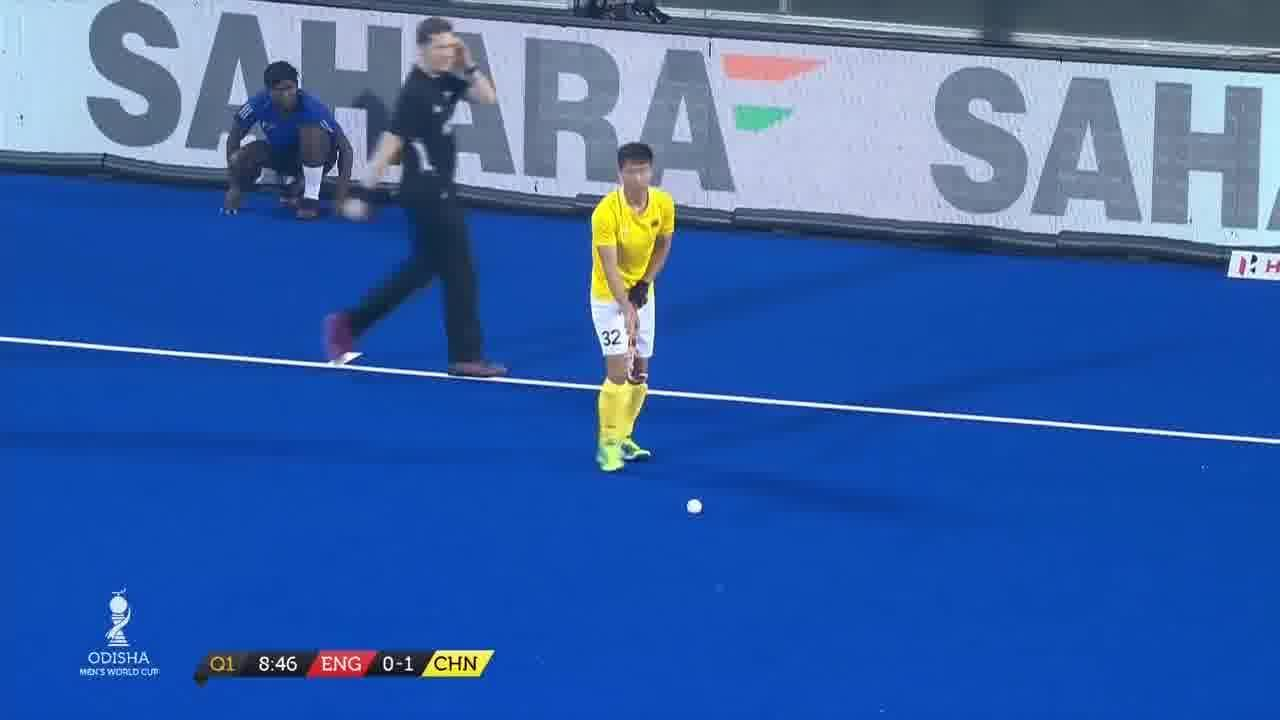ball: (680, 493, 710, 520)
